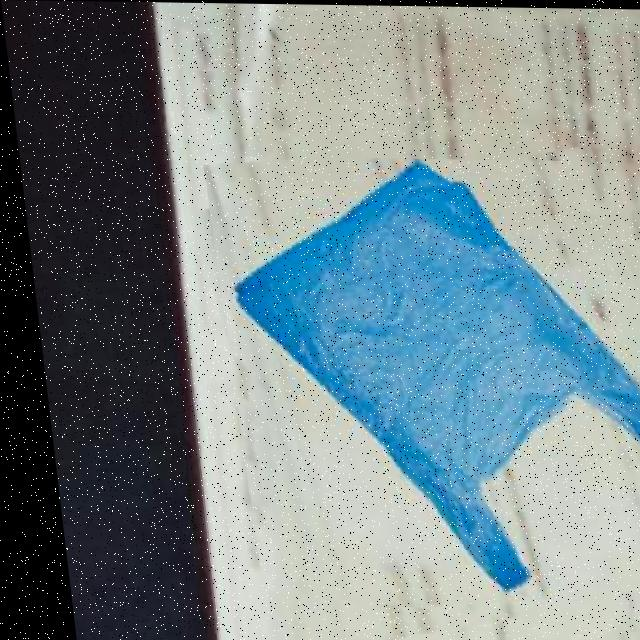plasticcover: (196, 155, 640, 639)
